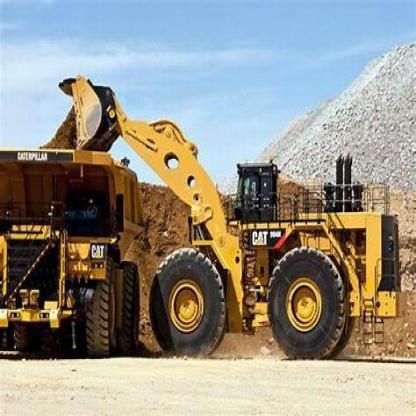bull_dozer/loader/grader: (57, 51, 408, 372)
